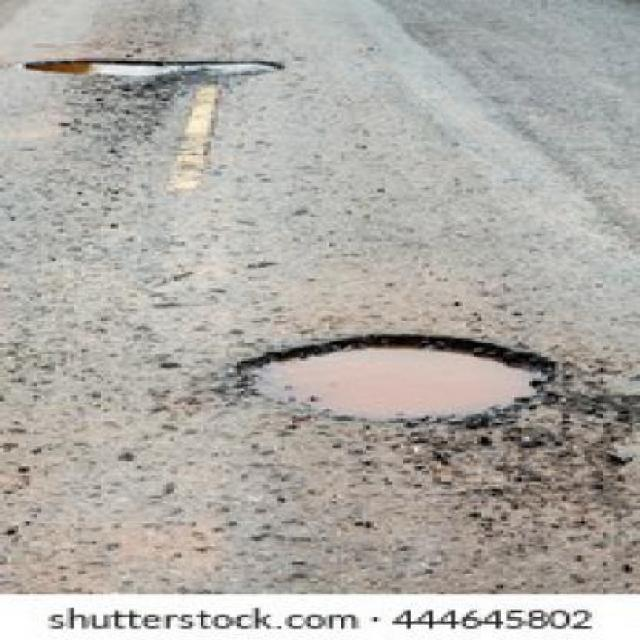Buraco: (225, 330, 570, 432), (20, 57, 289, 85)
